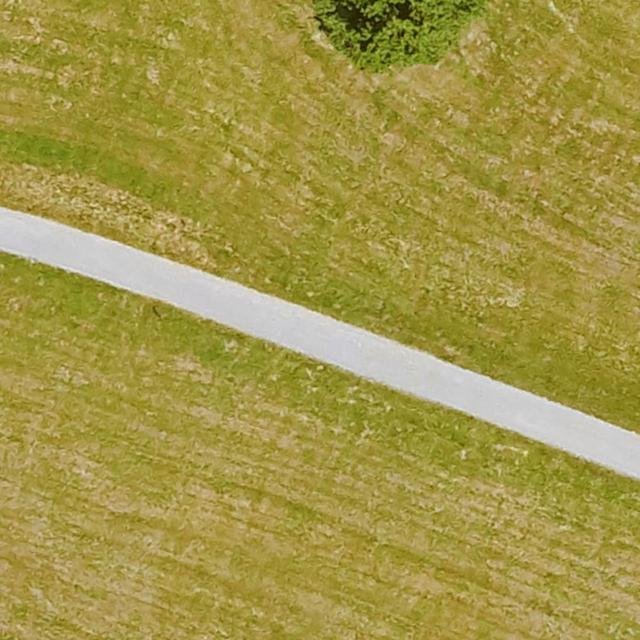tree: (311, 0, 488, 74)
